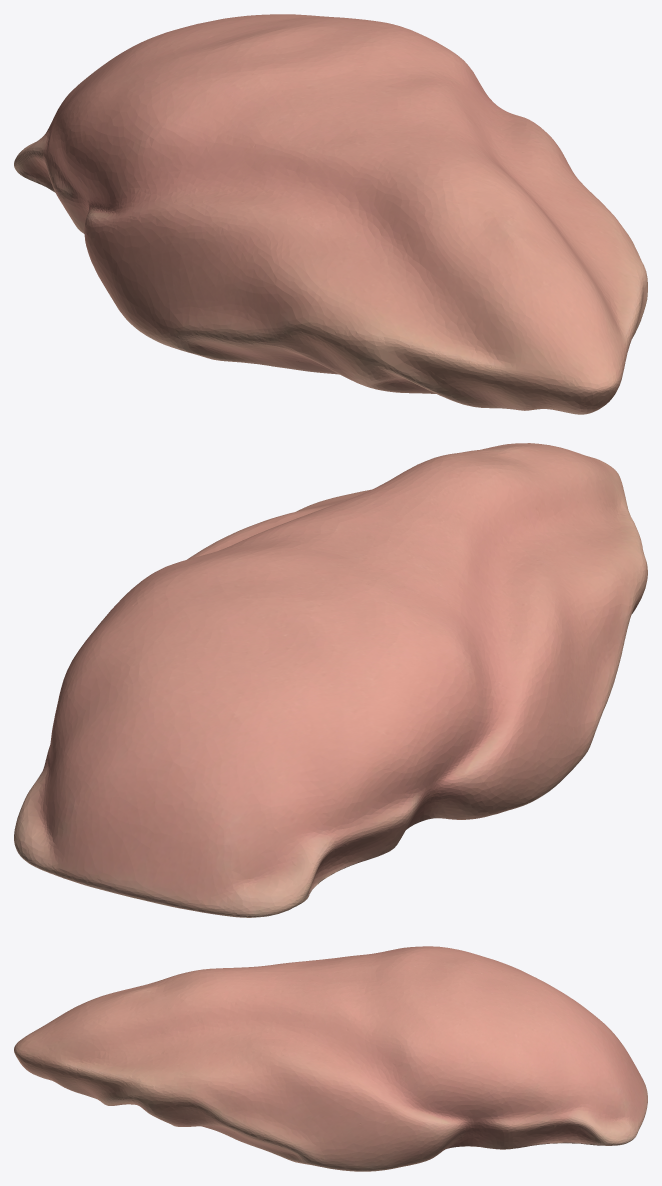
Rendered from Pollo_Crudo.fbx.
3 renders of one model, top to bottom at view 1: azimuth 30°, elevation 25°; view 2: azimuth 150°, elevation 25°; view 3: azimuth 270°, elevation 25°, orthographic. The views are drawn at different scales.
Visible parts, largest first — view 1: Mesh_0; view 2: Mesh_0; view 3: Mesh_0.
Boxes of the visible parts, x1=… form: Mesh_0: x1=14, y1=14, x2=647, y2=414; Mesh_0: x1=14, y1=443, x2=647, y2=917; Mesh_0: x1=14, y1=946, x2=647, y2=1171.
Bounding box in the file's own units: 97.52 × 44.8 × 190.
Materials: 1 (1 with a texture image).
